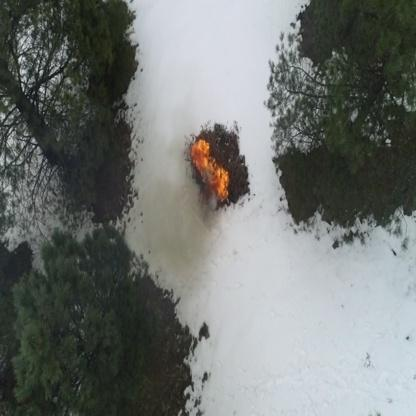Fire: (209, 160, 228, 204), (192, 138, 212, 173)
